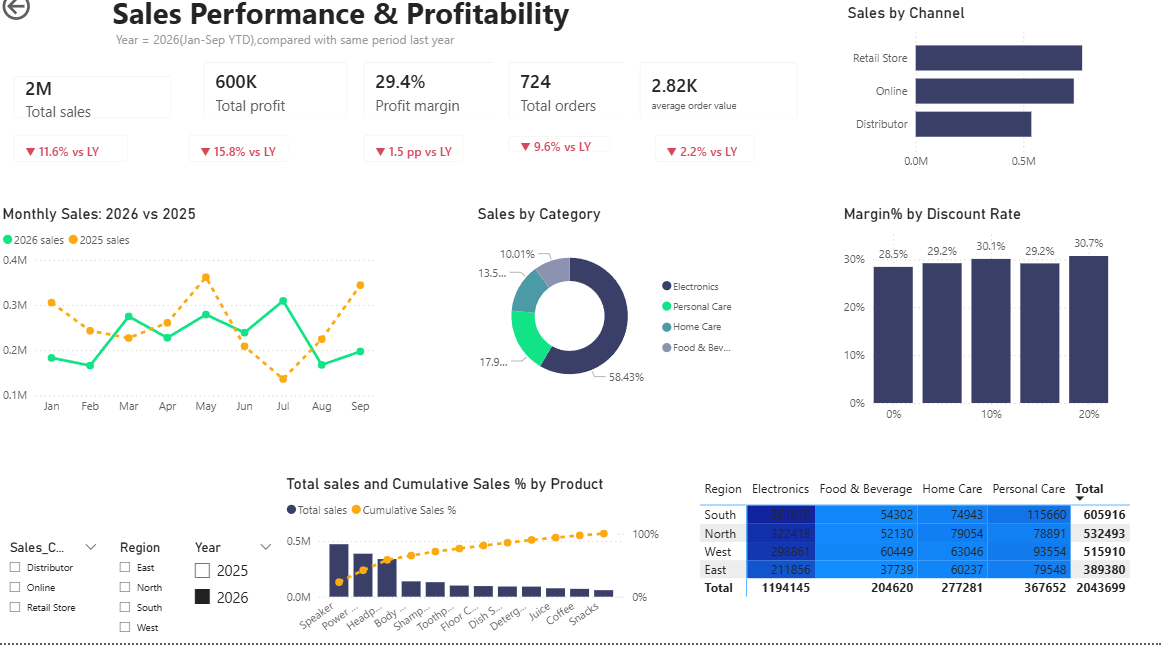

The page's visual inventory and layout, read from the dashboard file:
{"tool":"powerbi","page":{"name":"Page 1","canvas":[1280,720],"ordinal":0},"visuals":[{"type":"slicer","fields":{"Values":["DateTable.Year"]},"box":[203.1,601,109.8,119.4],"z":0},{"type":"slicer","fields":{"Values":["Sales.Sales_Channel"]},"box":[0,601,120.8,119.4],"z":1000},{"type":"cardVisual","fields":{"Data":["Sales.Total sales"]},"box":[0,80,208,80],"z":2000},{"type":"cardVisual","fields":{"Data":["Sales.Total profit"]},"box":[208,64,192,96],"z":3000},{"type":"cardVisual","fields":{"Data":["Sales.Profit margin"]},"box":[384,64,208,96],"z":4000},{"type":"cardVisual","fields":{"Data":["Sales.Total orders"]},"box":[544,64,192,96],"z":5000},{"type":"cardVisual","fields":{"Data":["Sales.average order value"]},"box":[688,64,208,96],"z":6000},{"type":"cardVisual","fields":{"Data":["Sales.Sales LY Label"]},"box":[0,144,160,64],"z":7000},{"type":"cardVisual","fields":{"Data":["Sales.Profit LY Label"]},"box":[191.7,144,144,64],"z":8000},{"type":"lineChart","title":"Monthly Sales: 2026 vs 2025","fields":{"Category":["DateTable.Month"],"Y":["Sales.Total sales","Sales.sales Ly"]},"box":[0,237.4,419.9,240.1],"z":9000},{"type":"donutChart","title":"Sales by Category","fields":{"Category":["Sales.Category"],"Y":["Sales.Total sales"]},"box":[521.4,237.4,300.5,226.4],"z":10000},{"type":"clusteredBarChart","title":"Sales by Channel","fields":{"Category":["Sales.Sales_Channel"],"Y":["Sales.Total sales"]},"box":[927.6,16.5,288.2,192.1],"z":11000},{"type":"lineClusteredColumnComboChart","fields":{"Category":["Sales.Product"],"Y":["Sales.Total sales"],"Y2":["Sales.Cumulative Sales %"]},"box":[311.5,533.4,419.9,186.6],"z":12000},{"type":"clusteredColumnChart","title":"Margin% by Discount Rate","fields":{"Category":["Sales.Discount_Rate"],"Y":["Sales.Profit margin"]},"box":[923.5,237.4,300.5,248.4],"z":13000},{"type":"pivotTable","fields":{"Rows":["Sales.Region"],"Columns":["Sales.Category"],"Values":["Sales.Total sales"]},"box":[765.7,533.4,494,153.7],"z":14000},{"type":"slicer","fields":{"Values":["Sales.Region"]},"box":[120.8,601,89.2,119.4],"z":15000},{"type":"textbox","box":[120.8,0,657.3,76.8],"z":16000},{"type":"cardVisual","fields":{"Data":["Sales.Margin LY Label"]},"box":[384,144,144,64],"z":17000},{"type":"cardVisual","fields":{"Data":["Sales.Orders LY Label"]},"box":[543.2,145.5,146.8,52.1],"z":18000},{"type":"cardVisual","fields":{"Data":["Sales.AOV LY Label"]},"box":[704,144,144,64],"z":19000},{"type":"actionButton","box":[0,0,100,40],"z":20000}]}

Visuals, with their boxes in screenshot pixels (x1, y1, x2, y2), scaled from the page's 1280x720 canvas onto the 1162x645 screenshot:
slicer - DateTable.Year: 184 538 284 644
slicer - Sales.Sales_Channel: 0 538 110 644
cardVisual - Sales.Total sales: 0 72 189 143
cardVisual - Sales.Total profit: 189 57 363 143
cardVisual - Sales.Profit margin: 349 57 537 143
cardVisual - Sales.Total orders: 494 57 668 143
cardVisual - Sales.average order value: 625 57 813 143
cardVisual - Sales.Sales LY Label: 0 129 145 186
cardVisual - Sales.Profit LY Label: 174 129 305 186
"Monthly Sales: 2026 vs 2025" lineChart: 0 213 381 428
"Sales by Category" donutChart: 473 213 746 415
"Sales by Channel" clusteredBarChart: 842 15 1104 187
lineClusteredColumnComboChart - Sales.Product x Sales.Total sales: 283 478 664 644
"Margin% by Discount Rate" clusteredColumnChart: 838 213 1111 435
pivotTable - Sales.Region x Sales.Category: 695 478 1144 616
slicer - Sales.Region: 110 538 191 644
textbox: 110 0 706 69
cardVisual - Sales.Margin LY Label: 349 129 479 186
cardVisual - Sales.Orders LY Label: 493 130 626 177
cardVisual - Sales.AOV LY Label: 639 129 770 186
actionButton: 0 0 91 36
